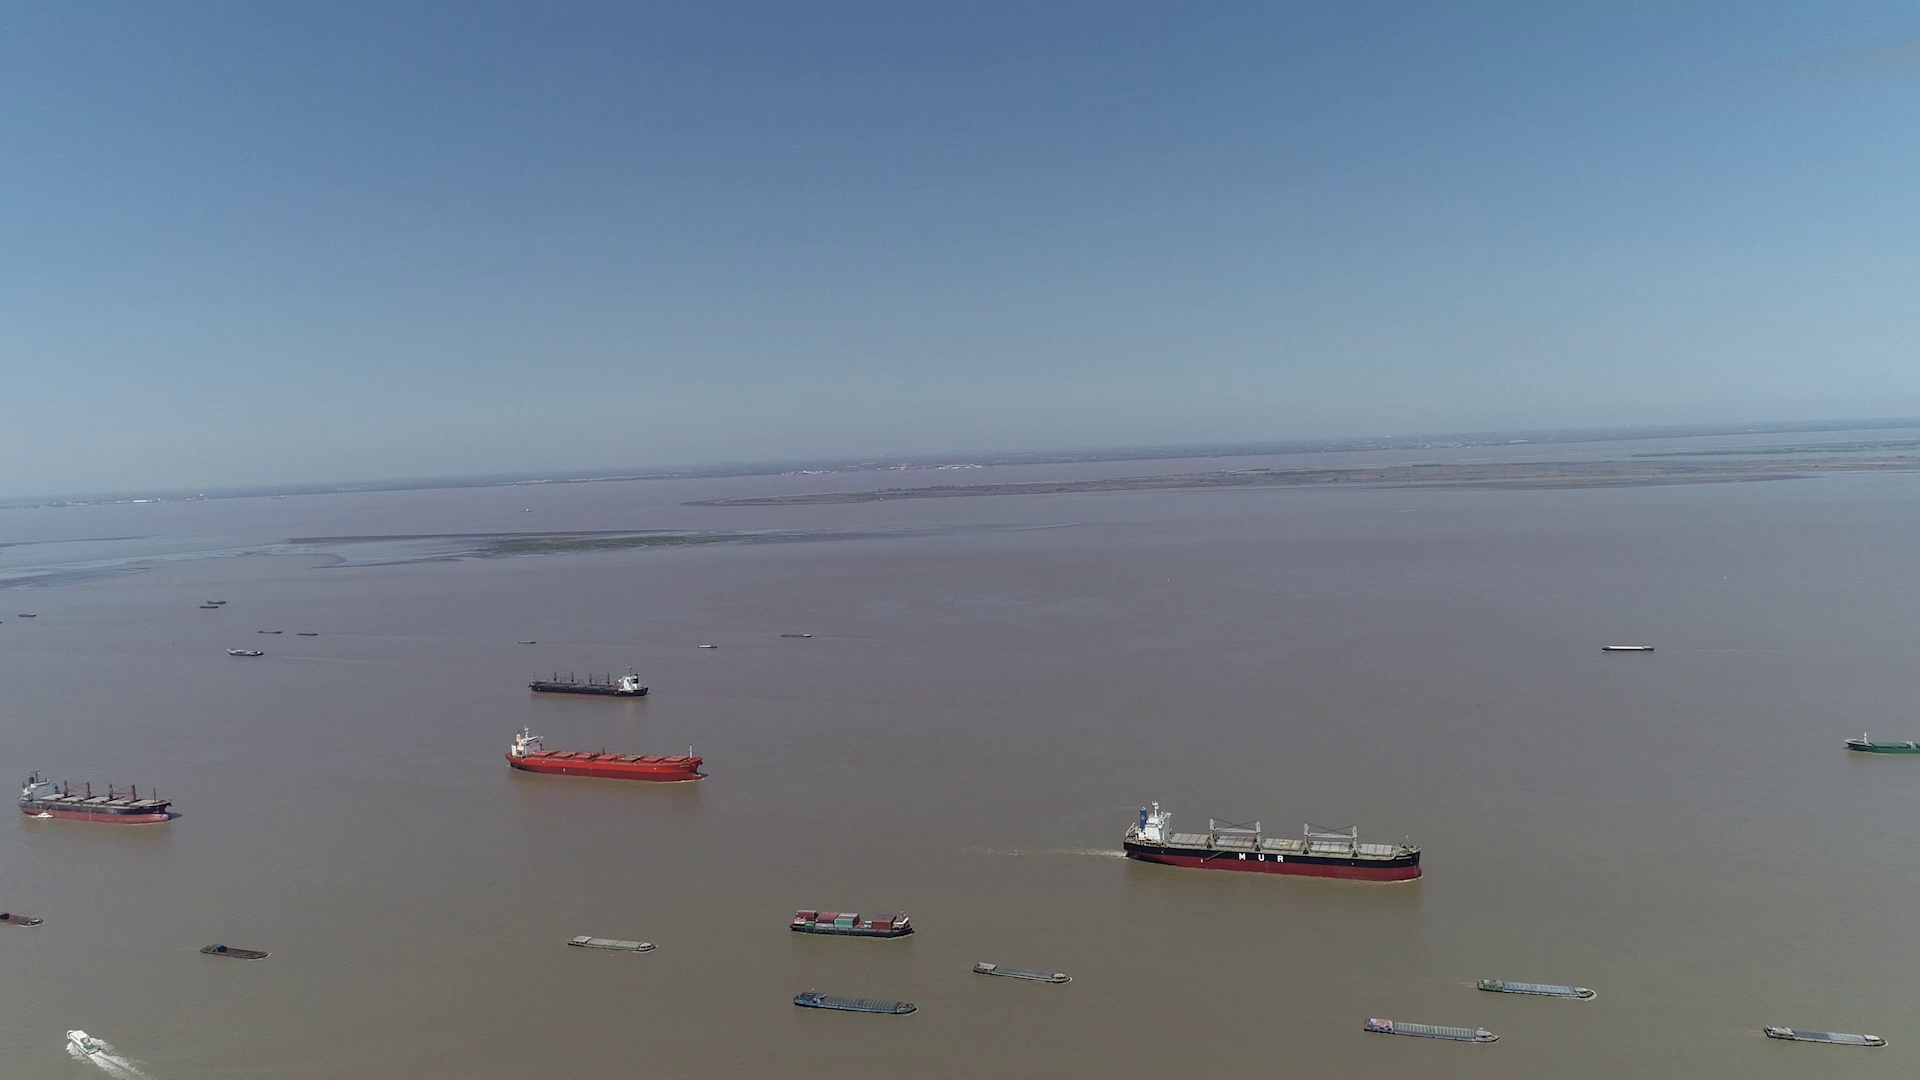ship: (1124, 800, 1420, 884), (504, 725, 702, 781), (20, 771, 175, 823), (785, 942, 914, 981), (1364, 1015, 1499, 1044), (789, 909, 915, 939), (529, 669, 649, 696), (791, 990, 916, 1015), (1762, 1023, 1884, 1046), (1477, 978, 1594, 1000), (971, 961, 1073, 985), (564, 934, 655, 953), (1844, 735, 1920, 756), (200, 942, 270, 960), (62, 1029, 103, 1056), (0, 909, 42, 927), (1600, 644, 1654, 651), (229, 647, 261, 658)
